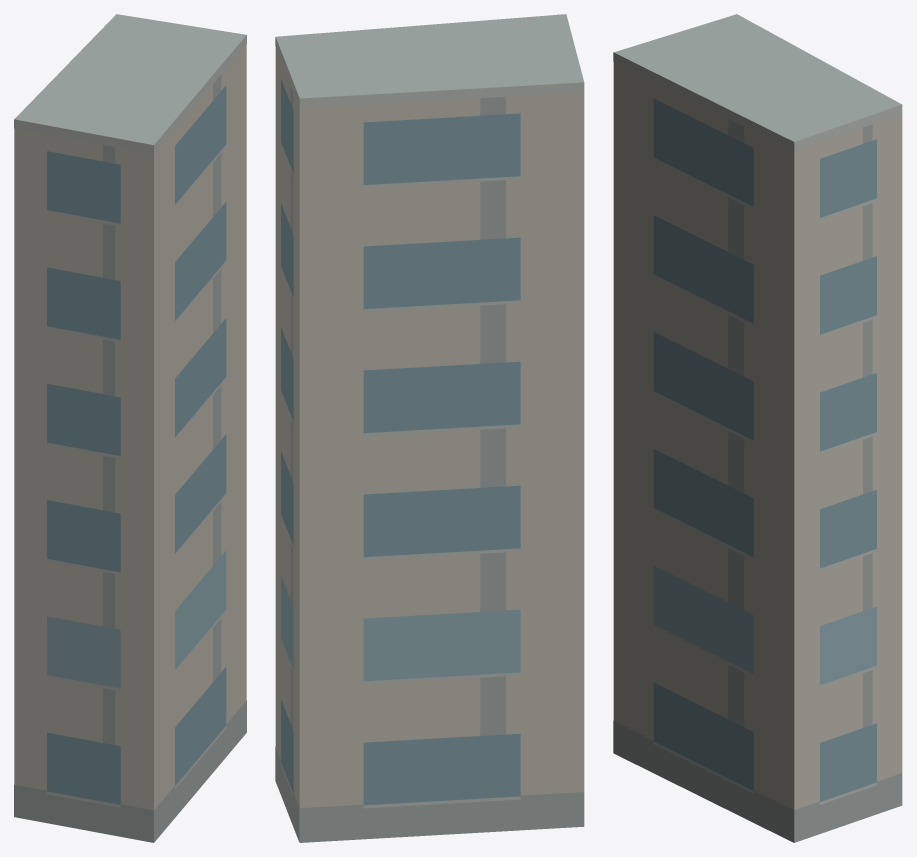
File: survey-upis-32937010.glb
3 views of the same model, side by side, from view 1: azimuth 30°, elevation 25°; view 2: azimuth 150°, elevation 25°; view 3: azimuth 270°, elevation 25° (orthographic). The views are drawn at different scales.
Visible parts, largest first — view 1: survey-upis-32937010.tmp; view 2: survey-upis-32937010.tmp; view 3: survey-upis-32937010.tmp.
Part boxes in pixels (bbox=[...]): survey-upis-32937010.tmp: bbox=[14, 14, 246, 842]; survey-upis-32937010.tmp: bbox=[275, 14, 584, 842]; survey-upis-32937010.tmp: bbox=[613, 14, 902, 842].
Size of the model in its own units: 7.17 by 18.3 by 6.84.
